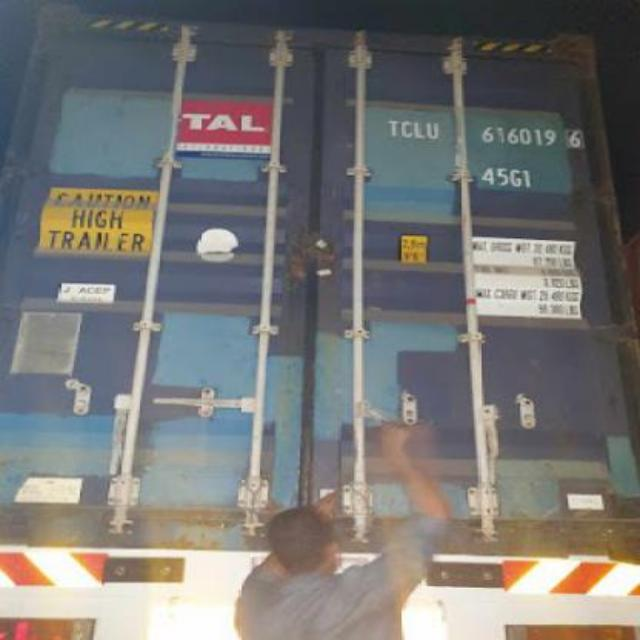0: (518, 125, 532, 146)
1: (494, 124, 506, 144), (534, 127, 544, 147)
6: (481, 122, 494, 146), (506, 125, 520, 145), (568, 130, 580, 146)
9: (546, 129, 556, 147)
C: (401, 118, 414, 140)
L: (414, 120, 426, 142)
T: (386, 118, 399, 140)
U: (426, 120, 439, 142)
